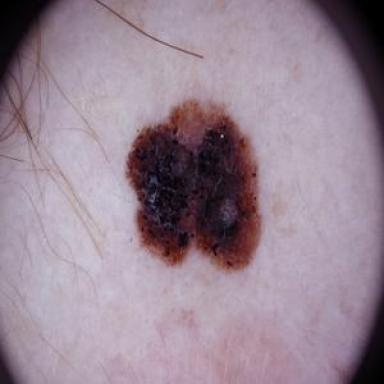Melanoma: (127, 101, 260, 269)
